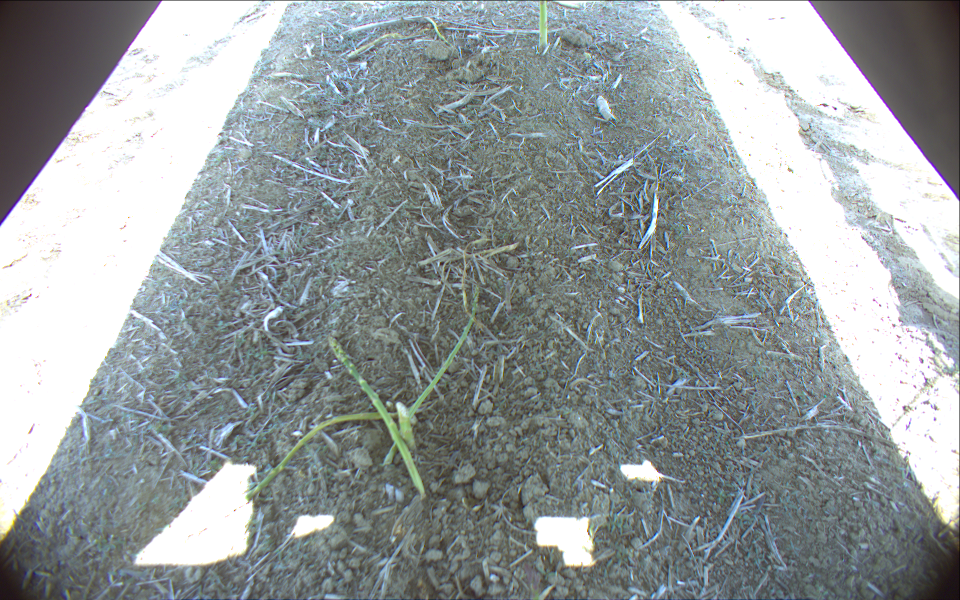aspa: (386, 280, 482, 463), (328, 335, 422, 495), (242, 409, 399, 503), (348, 25, 442, 55), (423, 14, 457, 51), (396, 400, 416, 452), (538, 1, 549, 50)
